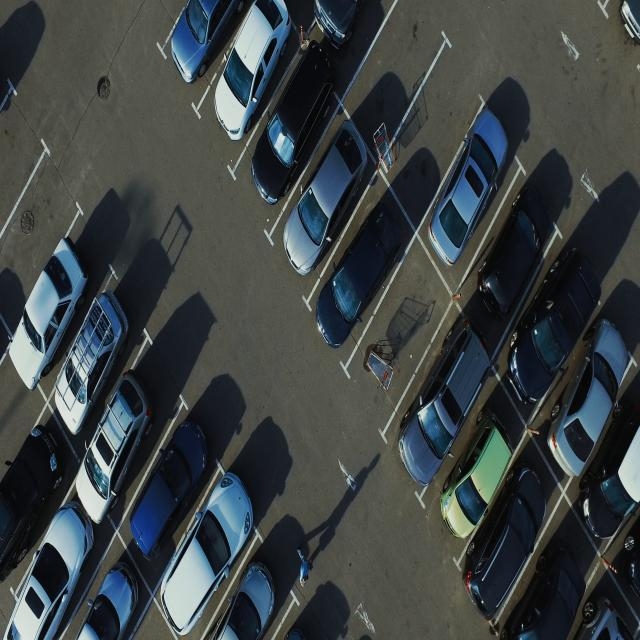vehicle: (398, 318, 490, 486), (160, 473, 253, 636), (508, 248, 601, 407), (250, 42, 336, 206), (282, 118, 368, 276), (465, 465, 545, 626), (315, 202, 402, 350), (548, 318, 628, 478), (428, 108, 508, 266), (2, 503, 94, 640), (10, 237, 89, 391), (76, 372, 152, 524), (54, 292, 130, 438), (130, 418, 207, 562), (214, 2, 292, 141), (0, 426, 62, 587), (480, 185, 550, 323), (440, 422, 513, 542), (582, 407, 640, 542), (514, 548, 582, 640), (170, 0, 240, 84), (212, 562, 275, 640), (74, 564, 138, 640), (314, 0, 364, 50), (580, 595, 635, 640), (298, 552, 312, 588)
